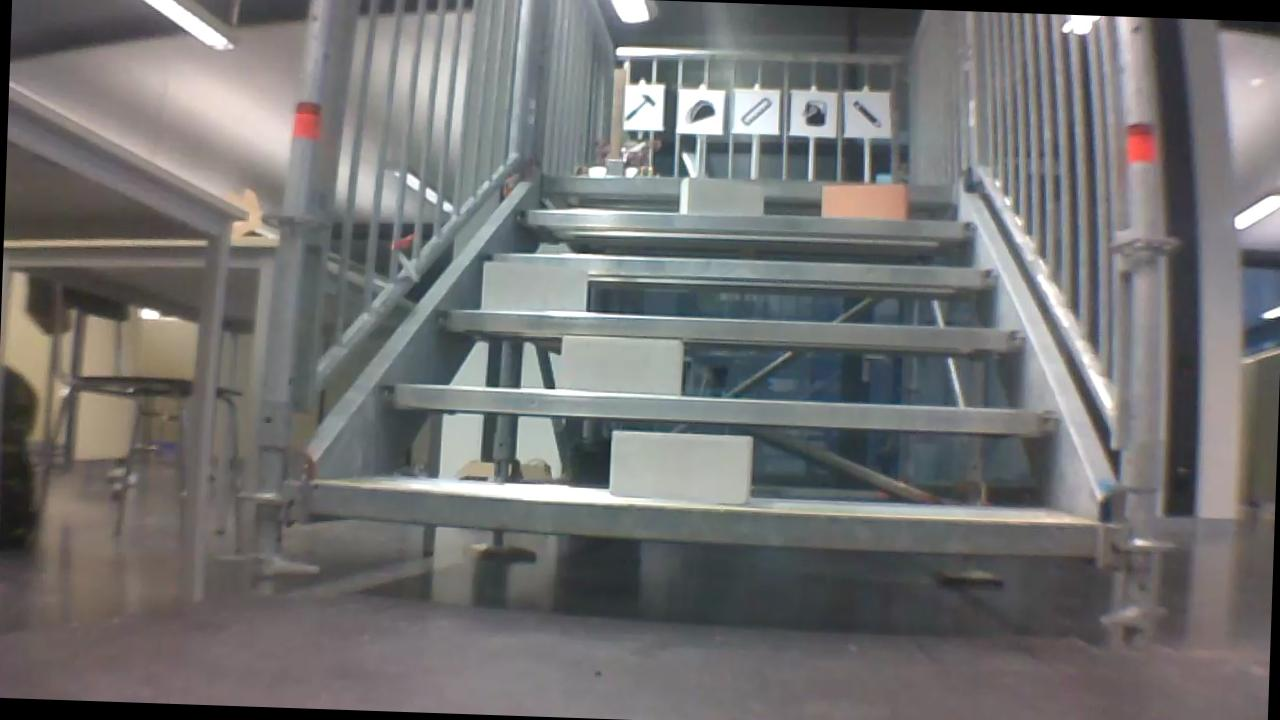brick: (609, 431, 750, 503), (559, 335, 683, 394), (481, 260, 587, 314), (680, 176, 762, 214), (825, 184, 908, 219)
bucket: (799, 95, 830, 130)
edge: (306, 484, 1102, 556), (379, 381, 1059, 434), (442, 308, 1025, 351), (485, 251, 998, 286), (518, 204, 984, 236), (543, 173, 961, 204)
hammer: (624, 87, 658, 125)
pencil: (847, 96, 887, 131)
ruler: (738, 92, 776, 132)
steps: (294, 160, 1127, 564)
taco: (680, 95, 718, 128)
